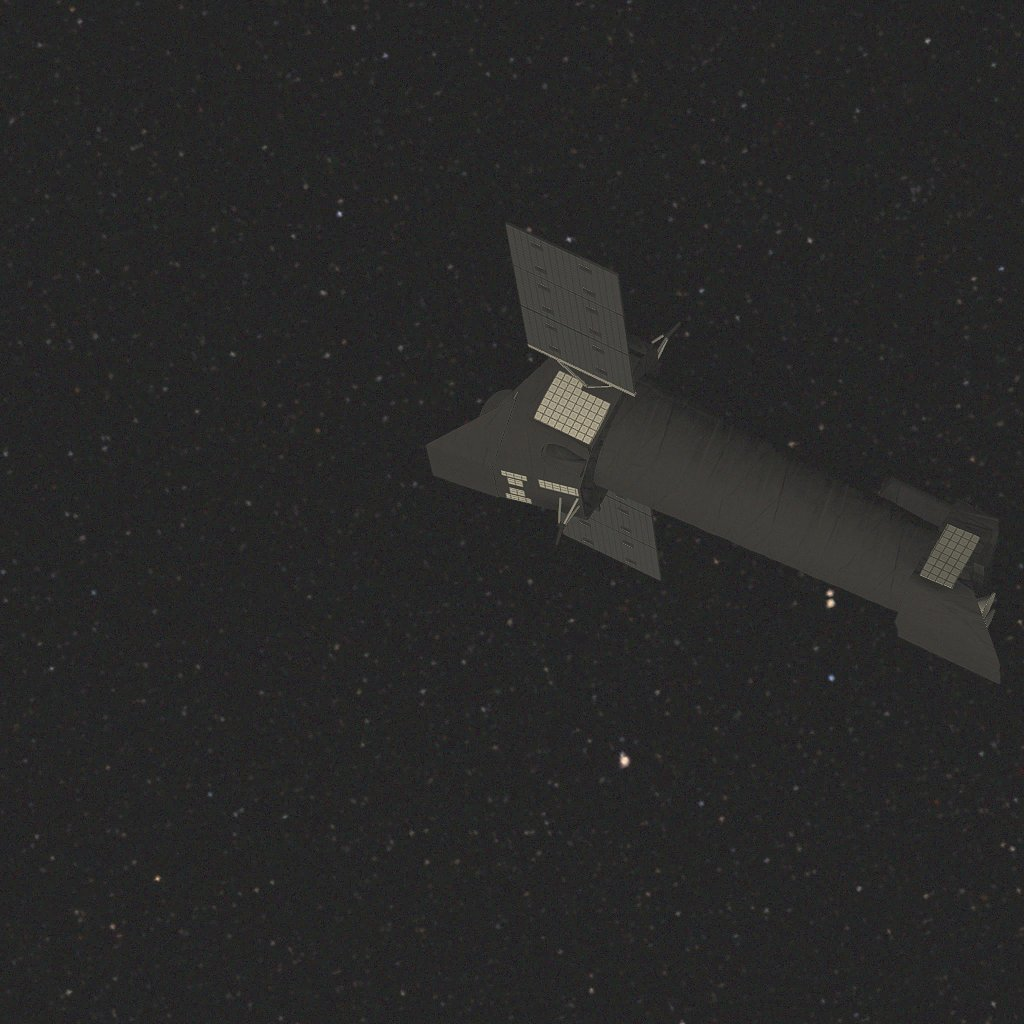xmm_newton: (426, 222, 1000, 684)
